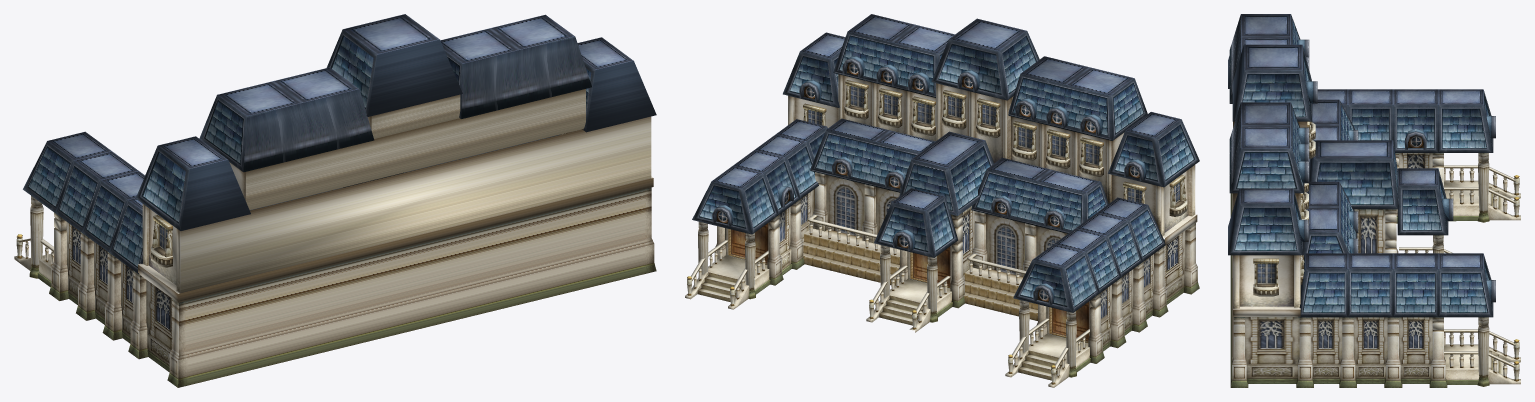
Rendered from s_viancahouse.glb.
3 renders of one model, left to right at view 1: azimuth 30°, elevation 25°; view 2: azimuth 150°, elevation 25°; view 3: azimuth 270°, elevation 25°, orthographic. The views are drawn at different scales.
Visible parts, largest first — view 1: s_viancahouse; view 2: s_viancahouse; view 3: s_viancahouse.
Boxes of the visible parts, x1,y1,x2,y2 form: s_viancahouse: (14,14,656,387); s_viancahouse: (685,14,1199,387); s_viancahouse: (1228,14,1520,387).
Bounding box in the file's own units: 20.69 × 11.35 × 12.96.
9 materials, 9 textured.
